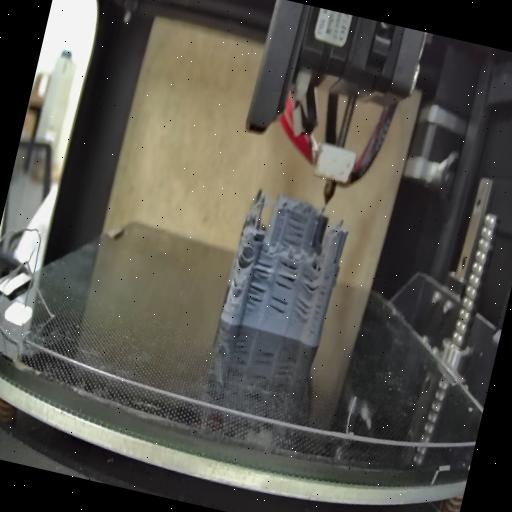cracks: (244, 258, 274, 312), (308, 276, 330, 340), (279, 210, 310, 252), (272, 260, 302, 294), (296, 272, 322, 296), (234, 244, 254, 273), (266, 296, 290, 320), (290, 299, 312, 324), (224, 276, 242, 297)
